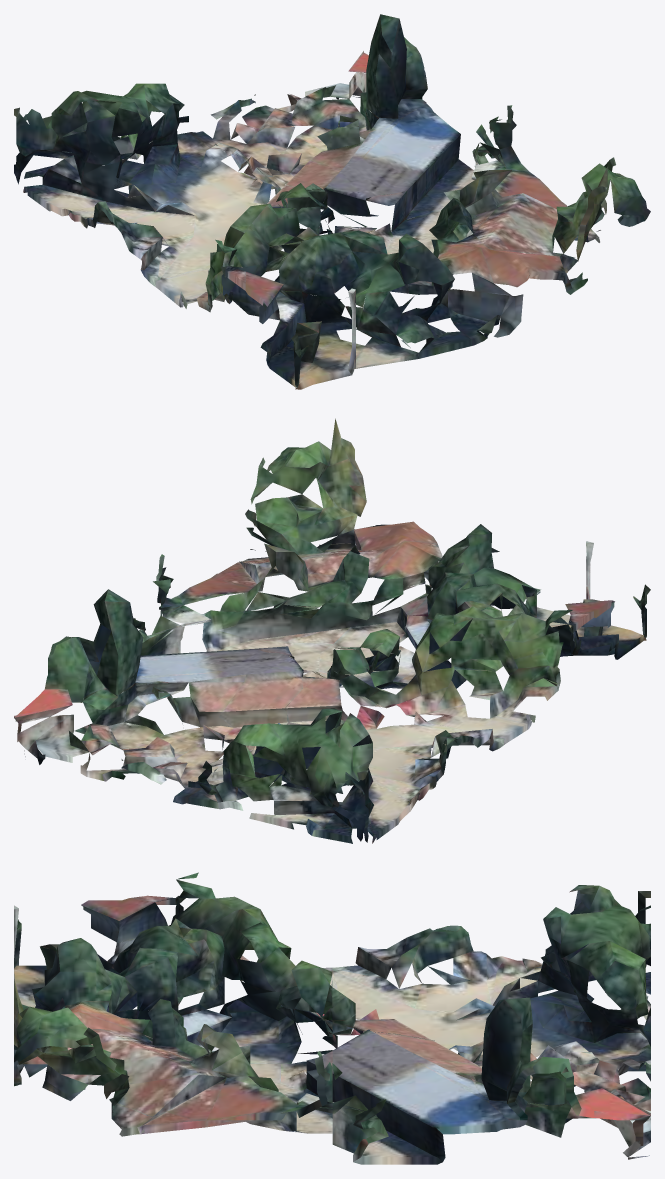
3 views of the same model, one above another, from view 1: azimuth 30°, elevation 25°; view 2: azimuth 150°, elevation 25°; view 3: azimuth 270°, elevation 25° (orthographic). The views are drawn at different scales.
Parts seen in each view (by area): view 1: 3043627270436163572_0; view 2: 3043627270436163572_0; view 3: 3043627270436163572_0.
Part boxes in pixels (box(x1,y1,x2,y2)): 3043627270436163572_0: box(14, 14, 650, 389); 3043627270436163572_0: box(14, 418, 650, 843); 3043627270436163572_0: box(14, 872, 650, 1164).
Bounding box in the file's own units: 56.14 × 22.49 × 76.52.
1 material, 1 textured.
